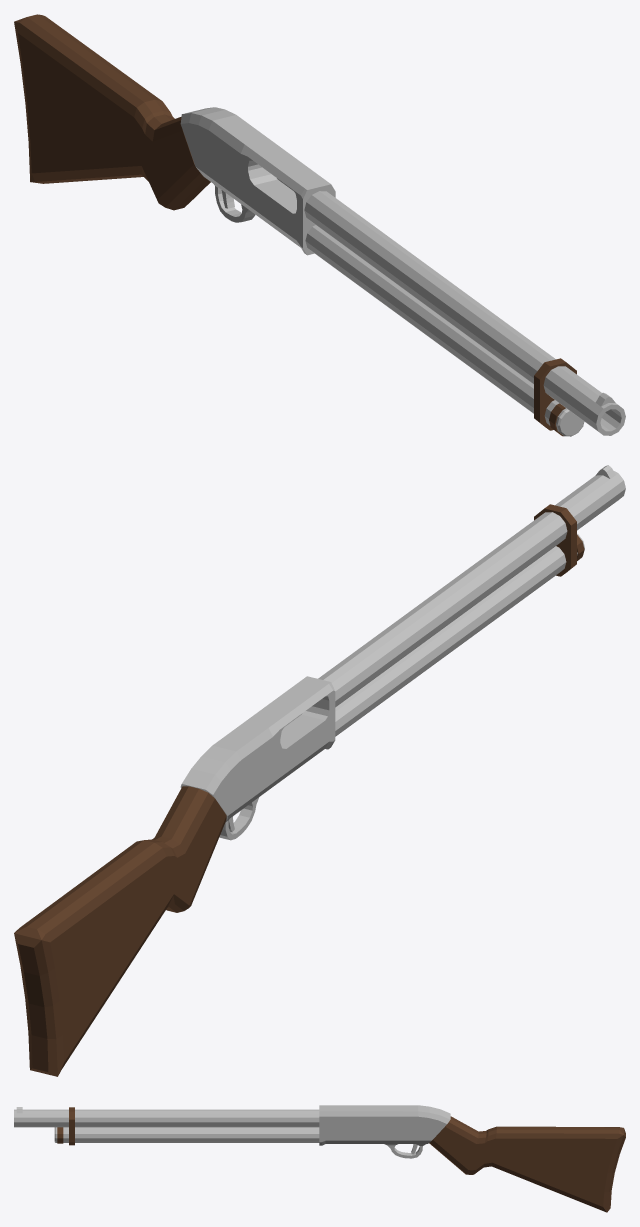
Rendered from shotgun_only.fbx.
3 renders of one model, top to bottom at view 1: azimuth 30°, elevation 25°; view 2: azimuth 150°, elevation 25°; view 3: azimuth 270°, elevation 25°, orthographic. The views are drawn at different scales.
Parts seen in each view (by area): view 1: Cube; view 2: Cube; view 3: Cube.
Part boxes in pixels (box(x1,y1,x2,y2)): Cube: box(14, 14, 625, 436); Cube: box(14, 465, 625, 1076); Cube: box(14, 1105, 625, 1212).
Bounding box in the file's own units: 3.79 × 19.19 × 104.
